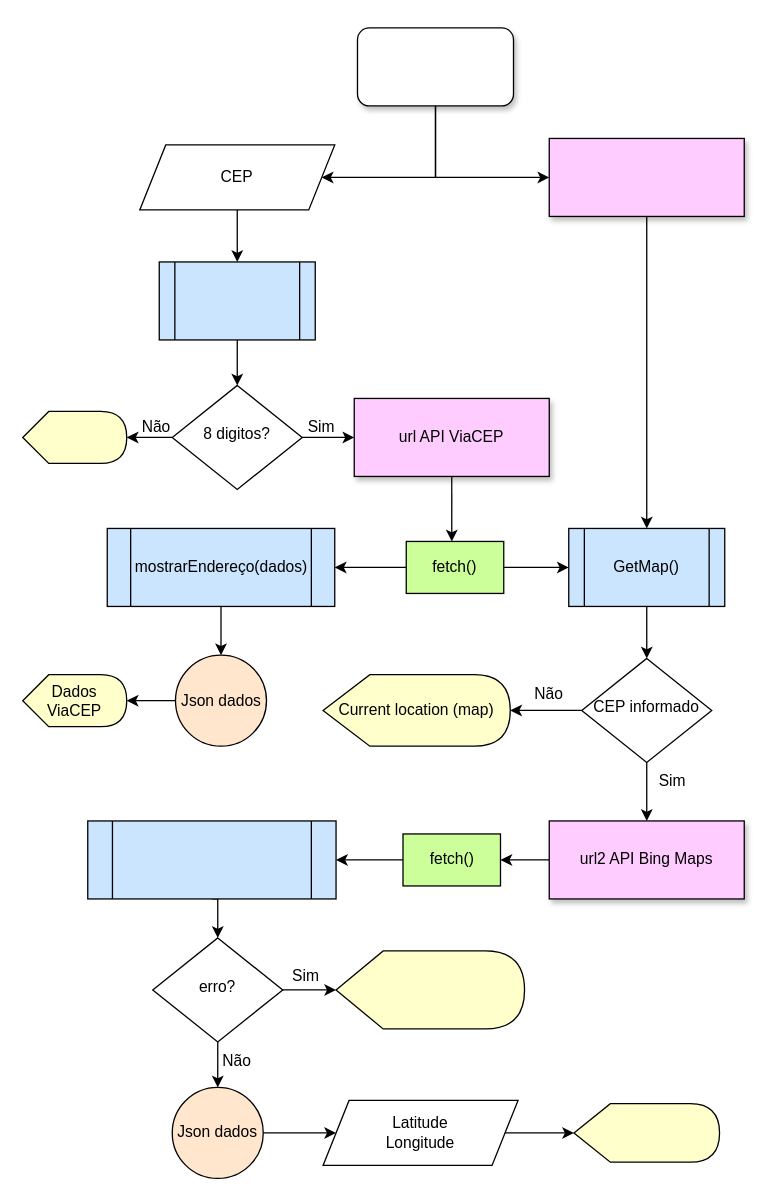
Image size: 775x1201. Some labels were removed from this diagram. The centre of each missing label's shape, as x and y in pixels:
CEP inválido: pixel 74 436
CEP Location: pixel 646 1132
consultaCEP(): pixel 236 300
Cusco Where website: pixel 436 68
Não foi possivel obter coordenada: pixel 430 989
obterCoordenadas(dados): pixel 211 859
script - API Bing Maps: pixel 647 179
